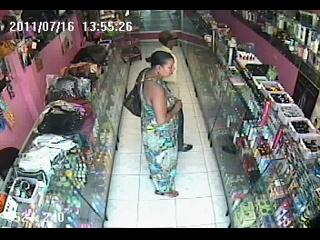Normal: (139, 51, 183, 198), (123, 68, 151, 117)
